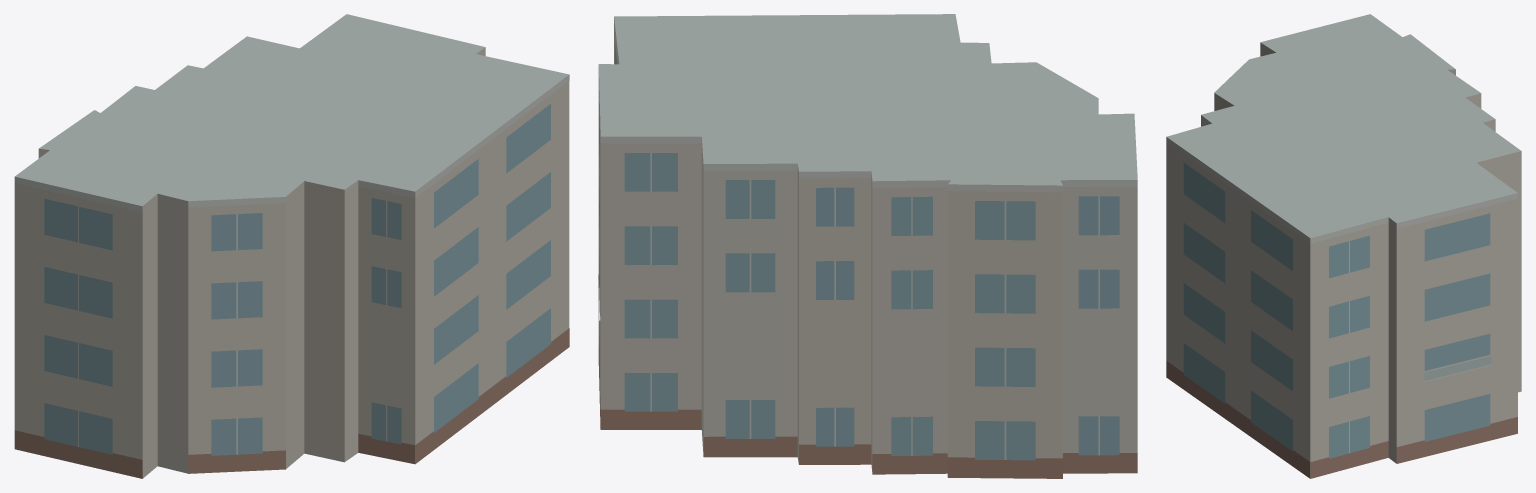
Rendered from survey-upis-32879085.glb.
The picture shows the model from 3 angles, left to right: view 1: azimuth 30°, elevation 25°; view 2: azimuth 150°, elevation 25°; view 3: azimuth 270°, elevation 25°; orthographic projection. The views are drawn at different scales.
Visible parts, largest first — view 1: survey-upis-32879085.tmp; view 2: survey-upis-32879085.tmp; view 3: survey-upis-32879085.tmp.
Boxes of the visible parts, x1,y1,x2,y2 form: survey-upis-32879085.tmp: (14, 14, 569, 478); survey-upis-32879085.tmp: (598, 14, 1137, 478); survey-upis-32879085.tmp: (1166, 14, 1521, 478).
Bounding box in the file's own units: 21.2 × 10.6 × 14.19.
